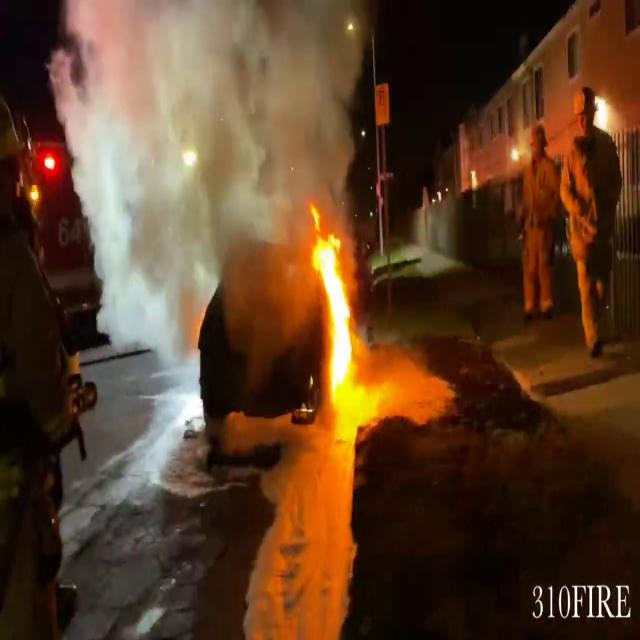Fire: (308, 204, 357, 410)
Smoke: (58, 0, 372, 353), (58, 0, 371, 228)
